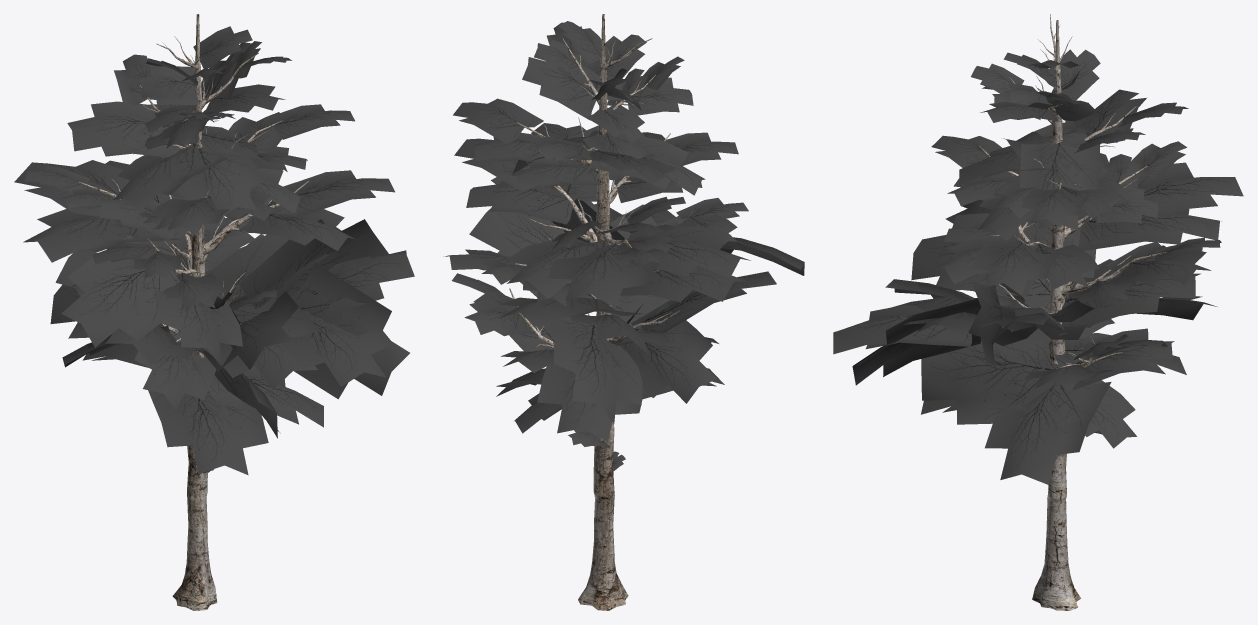
File: snow_tree_a.FBX
3 views of the same model, side by side, from view 1: azimuth 30°, elevation 25°; view 2: azimuth 150°, elevation 25°; view 3: azimuth 270°, elevation 25° (orthographic).
Visible parts, largest first — view 1: Cylinder001; view 2: Cylinder001; view 3: Cylinder001.
Boxes of the visible parts, <box> form: Cylinder001: <box>14,14,414,610</box>; Cylinder001: <box>443,14,804,610</box>; Cylinder001: <box>833,14,1243,610</box>.
Size of the model in its own units: 1138 by 1905 by 1220.
